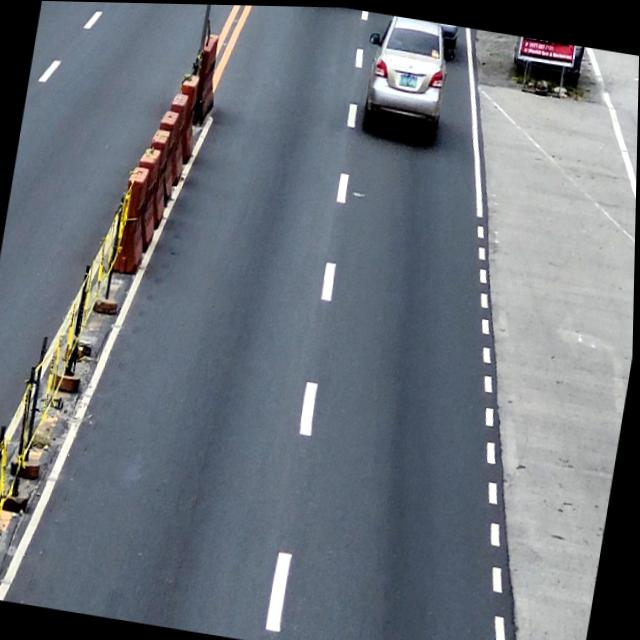Car: (357, 11, 461, 140)
License-Plate: (399, 72, 418, 86)
